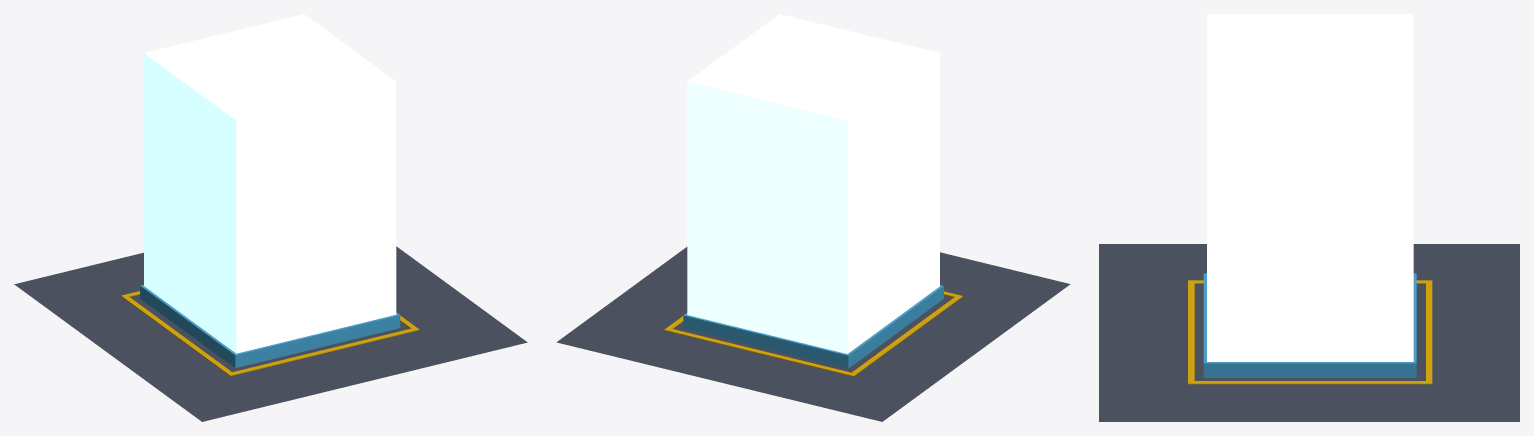
The picture shows the model from 3 angles, left to right: view 1: azimuth 30°, elevation 25°; view 2: azimuth 150°, elevation 25°; view 3: azimuth 270°, elevation 25°; orthographic projection. The views are drawn at different scales.
Parts seen in each view (by area): view 1: tuopan.002, Plane, tuopan, dixian; view 2: tuopan.002, Plane, tuopan, dixian; view 3: tuopan.002, Plane, tuopan, dixian.
Boxes of the visible parts, <box> form: tuopan.002: <box>144,14,396,353</box>; Plane: <box>14,246,527,421</box>; tuopan: <box>140,284,400,367</box>; dixian: <box>121,291,419,376</box>; tuopan.002: <box>687,14,939,353</box>; Plane: <box>556,247,1070,421</box>; tuopan: <box>683,285,943,368</box>; dixian: <box>664,291,962,376</box>; tuopan.002: <box>1207,14,1413,361</box>; Plane: <box>1099,244,1519,421</box>; tuopan: <box>1203,273,1416,377</box>; dixian: <box>1188,280,1432,384</box>.
Size of what is drawn, in the model's own units: 2 by 1.49 by 2.
